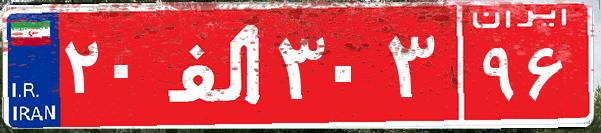0: (330, 28, 385, 110), (110, 28, 158, 105)
2: (57, 26, 110, 107)
3: (385, 28, 445, 110), (273, 28, 330, 110)
6: (525, 38, 570, 115)
9: (475, 38, 525, 113)
الف: (158, 15, 273, 115)
